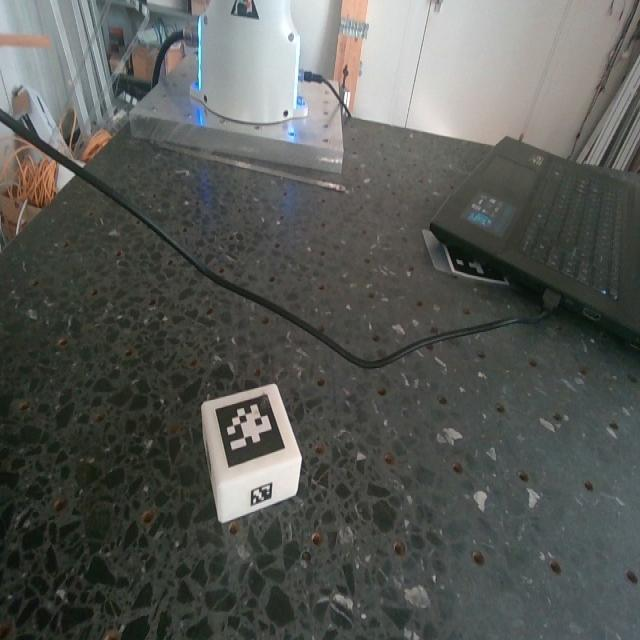Cube: (200, 385, 303, 524)
